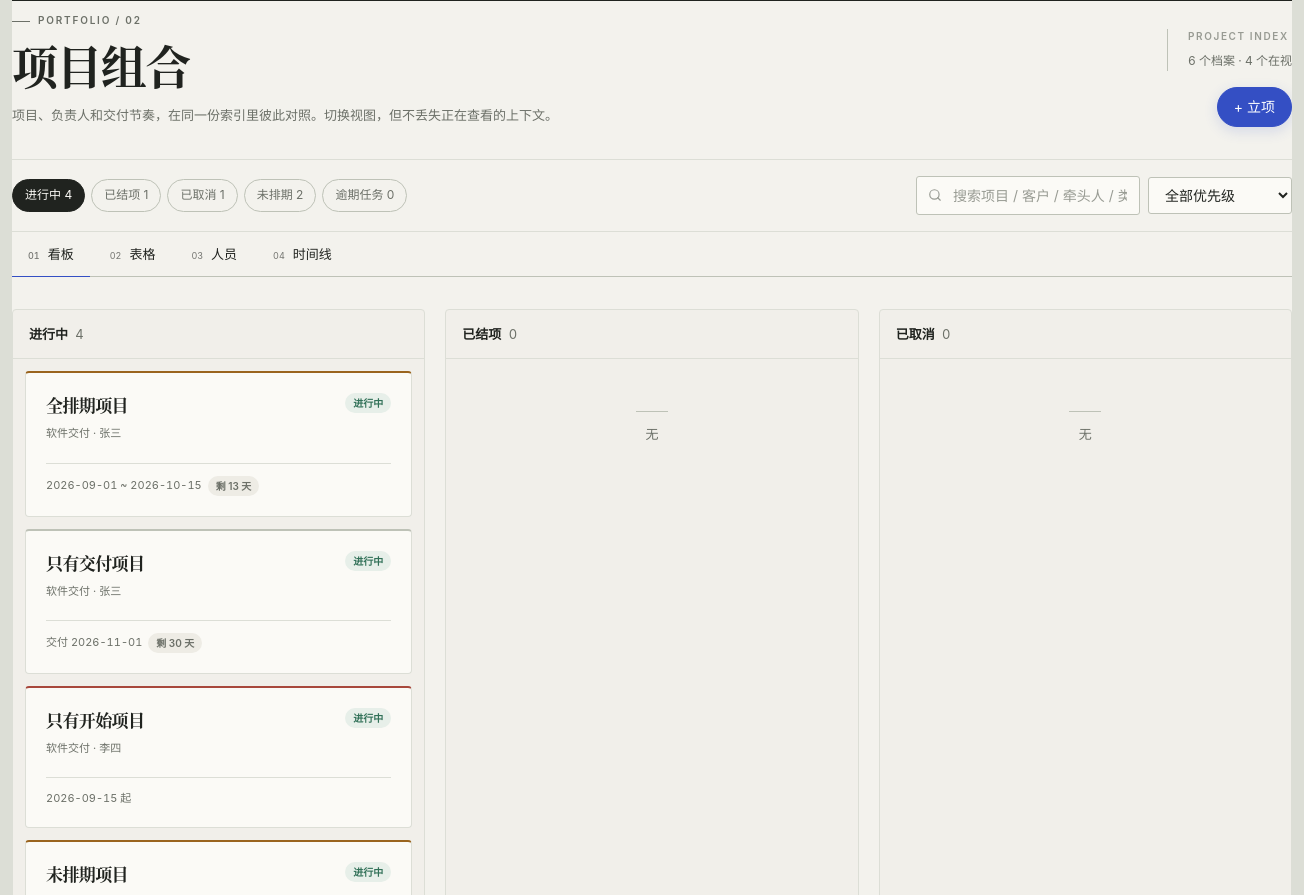
Test: S30 项目组合页（v0.29） › S30-2: 看板视图——按状态三列分组，终态列可折叠
Expected: the element with test id "board-col-active" shows "进行中", [29, 326, 68, 342]
Click the button "已结项 1" at x=126, y=195, box [91, 179, 162, 212]
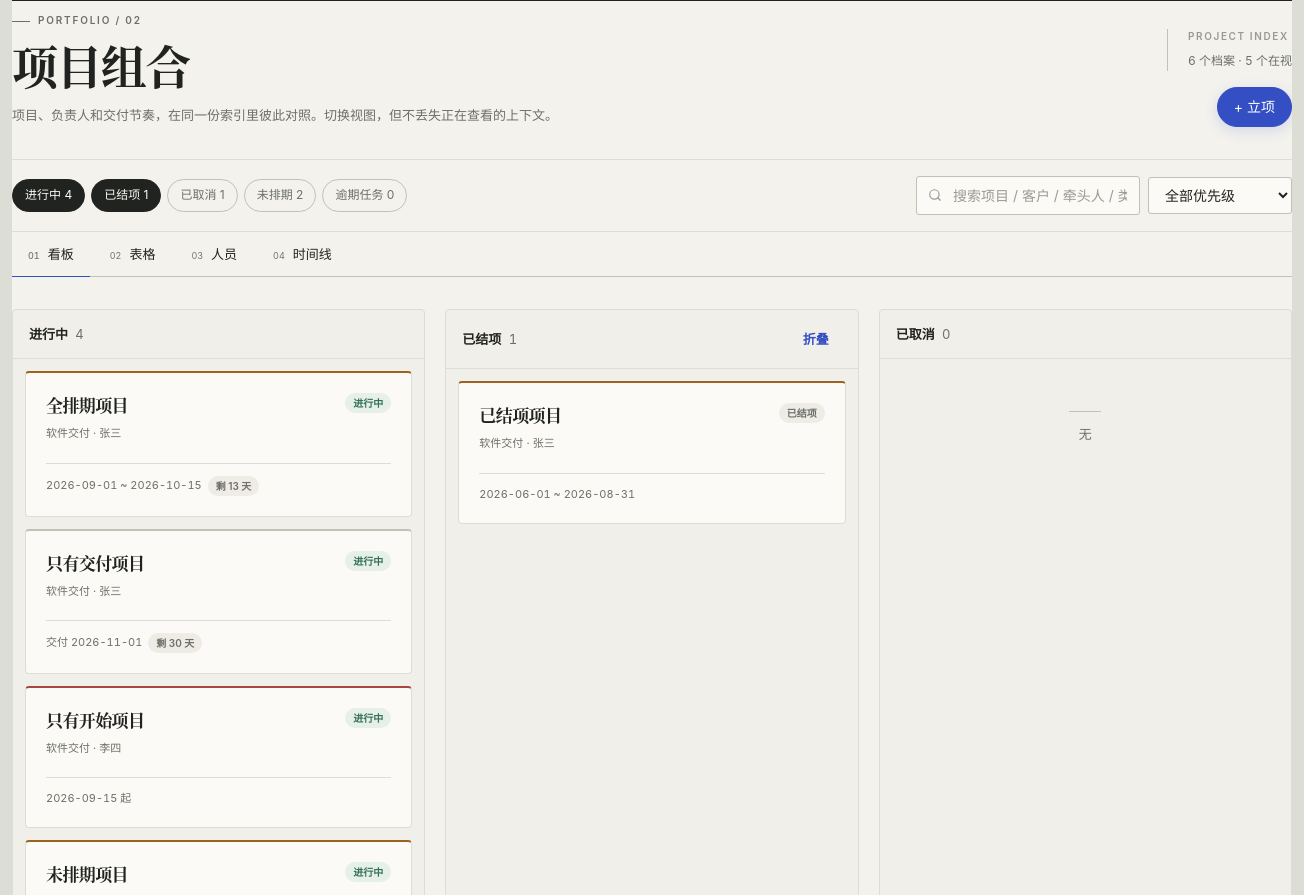
Click the button "折叠" at x=816, y=339, box [790, 324, 842, 354]
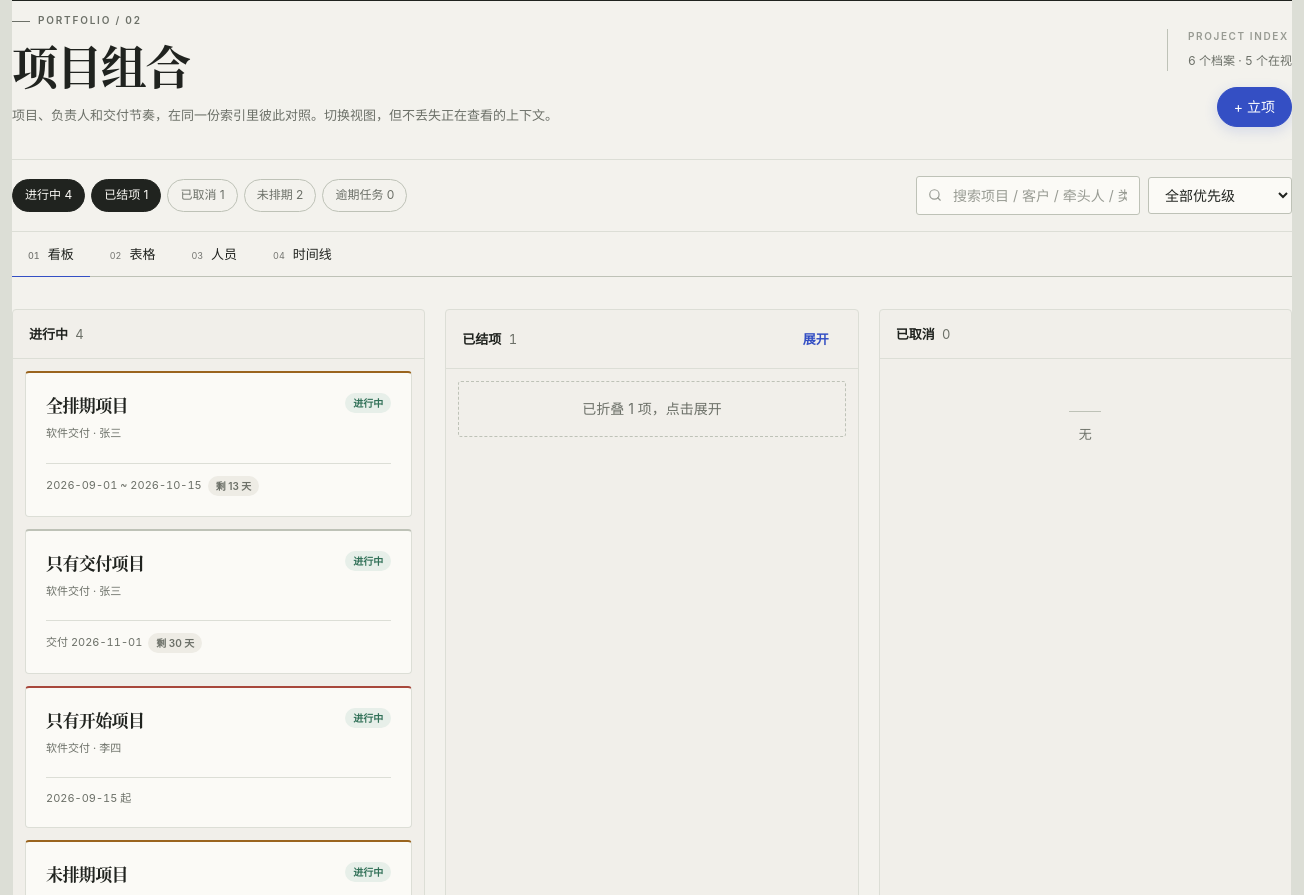
Expected: the button "已折叠 1 项，点击展开" is shown, [458, 382, 846, 437]
